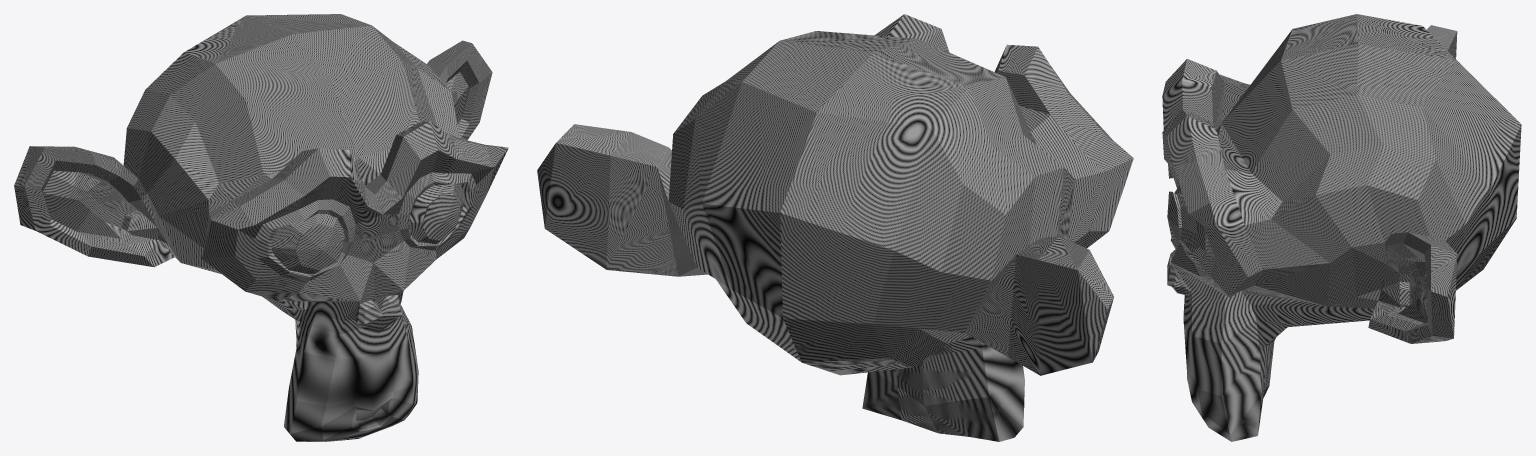
File: pruebita2.glb
3 views of the same model, side by side, from view 1: azimuth 30°, elevation 25°; view 2: azimuth 150°, elevation 25°; view 3: azimuth 270°, elevation 25° (orthographic). The views are drawn at different scales.
Parts seen in each view (by area): view 1: Suzanne; view 2: Suzanne; view 3: Suzanne.
Part boxes in pixels (bbox=[...]): Suzanne: bbox=[14, 14, 508, 441]; Suzanne: bbox=[537, 14, 1133, 441]; Suzanne: bbox=[1162, 14, 1521, 441].
Bounding box in the file's own units: 2.73 × 1.97 × 1.7.
Materials: 1 (1 with a texture image).
